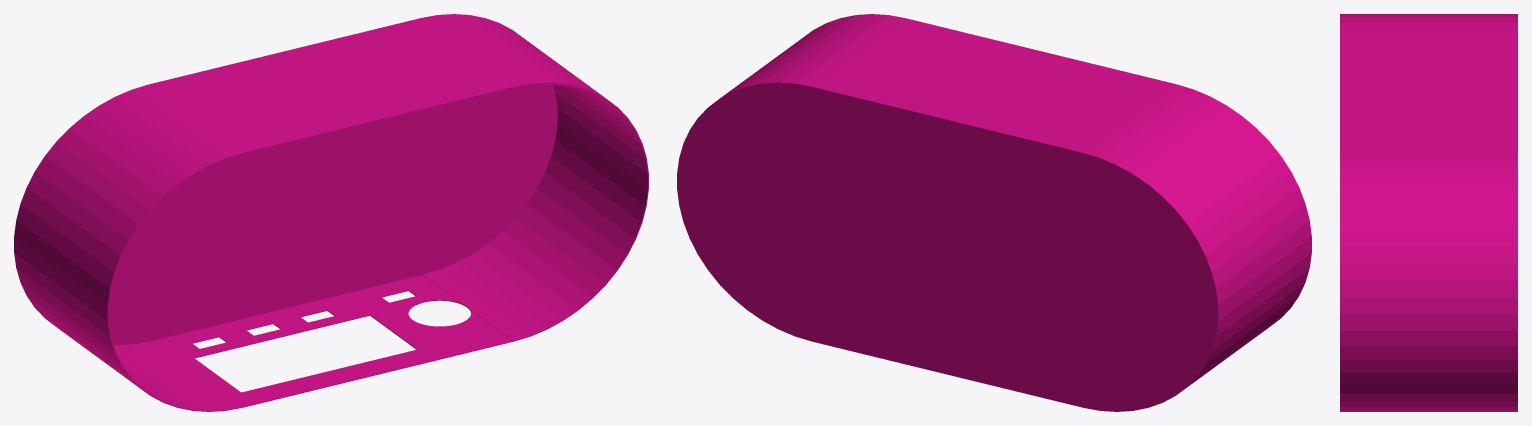
Rendered from tinker.obj.
3 renders of one model, left to right at view 1: azimuth 30°, elevation 25°; view 2: azimuth 150°, elevation 25°; view 3: azimuth 270°, elevation 25°, orthographic. The views are drawn at different scales.
Parts seen in each view (by area): view 1: obj_0; view 2: obj_0; view 3: obj_0.
Boxes of the visible parts, x1,y1,x2,y2 form: obj_0: (14,14,648,411); obj_0: (677,14,1311,411); obj_0: (1340,14,1517,411).
Bounding box in the file's own units: 20 × 9 × 6.
